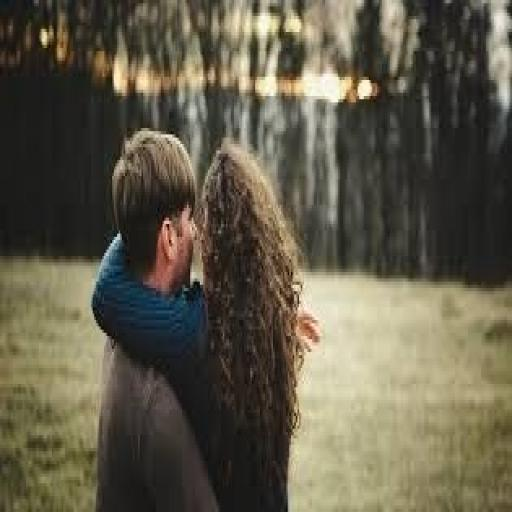hugging: (90, 125, 320, 509)
